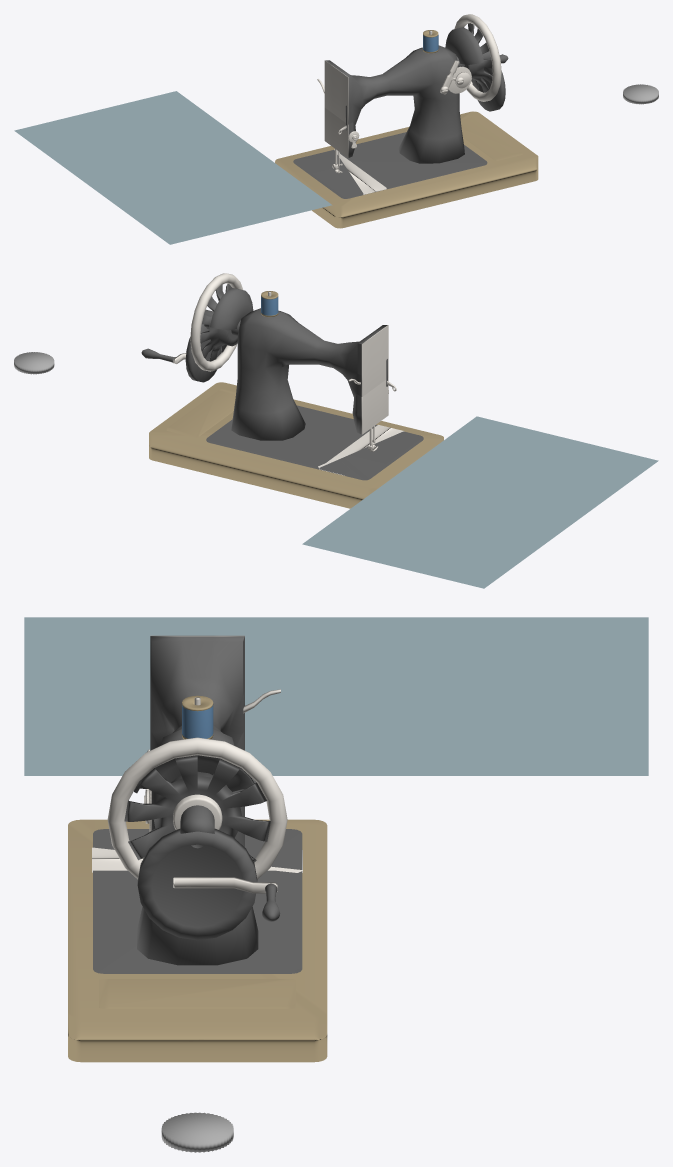
3 views of the same model, one above another, from view 1: azimuth 30°, elevation 25°; view 2: azimuth 150°, elevation 25°; view 3: azimuth 270°, elevation 25° (orthographic). The views are drawn at different scales.
Parts seen in each view (by area): view 1: Cloth, machinebody, Base, metalbase, cubby, wheel, wheeltopcover, wheelspokes, silverplate, pCylinder4, handleplate, spool; view 2: Cloth, machinebody, Base, metalbase, cubby, wheel, wheeltopcover, wheelspokes, silverplate, pCylinder4, handleplate; view 3: Cloth, Base, machinebody, metalbase, handleplate, wheel, wheelspokes, cubby, pCylinder4, spool, wheeltopcover, handleholder (+3 smaller).
Part boxes in pixels (x1=…): Cloth: x1=14, y1=91, x2=332, y2=244; machinebody: x1=324, y1=45, x2=464, y2=163; Base: x1=275, y1=111, x2=538, y2=228; metalbase: x1=293, y1=132, x2=487, y2=198; cubby: x1=460, y1=117, x2=522, y2=160; wheel: x1=454, y1=14, x2=501, y2=101; wheeltopcover: x1=445, y1=27, x2=483, y2=64; wheelspokes: x1=465, y1=23, x2=492, y2=92; silverplate: x1=334, y1=149, x2=386, y2=194; pCylinder4: x1=623, y1=84, x2=658, y2=104; handleplate: x1=471, y1=59, x2=505, y2=111; spool: x1=423, y1=30, x2=438, y2=53; Cloth: x1=302, y1=416, x2=658, y2=588; machinebody: x1=231, y1=308, x2=388, y2=440; Base: x1=149, y1=382, x2=443, y2=508; metalbase: x1=206, y1=405, x2=423, y2=480; cubby: x1=166, y1=389, x2=235, y2=437; wheel: x1=190, y1=273, x2=242, y2=371; wheeltopcover: x1=210, y1=288, x2=253, y2=330; wheelspokes: x1=200, y1=284, x2=237, y2=361; silverplate: x1=318, y1=424, x2=404, y2=475; pCylinder4: x1=14, y1=352, x2=54, y2=374; handleplate: x1=185, y1=324, x2=221, y2=382; Cloth: x1=24, y1=617, x2=648, y2=775; Base: x1=68, y1=819, x2=327, y2=1062; machinebody: x1=137, y1=635, x2=258, y2=965; metalbase: x1=93, y1=829, x2=302, y2=973; handleplate: x1=137, y1=828, x2=257, y2=940; wheel: x1=107, y1=737, x2=287, y2=879; wheelspokes: x1=124, y1=755, x2=270, y2=862; cubby: x1=99, y1=979, x2=295, y2=1008; pCylinder4: x1=161, y1=1112, x2=233, y2=1152; spool: x1=182, y1=695, x2=213, y2=739; wheeltopcover: x1=134, y1=755, x2=256, y2=793; handleholder: x1=173, y1=877, x2=277, y2=893.
Size of the model in its own units: 33.98 by 8.99 by 17.33.
